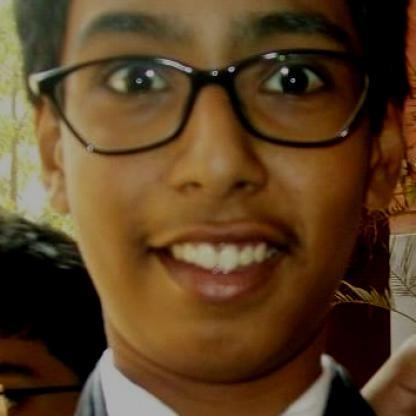without_mask: (55, 35, 374, 347)
